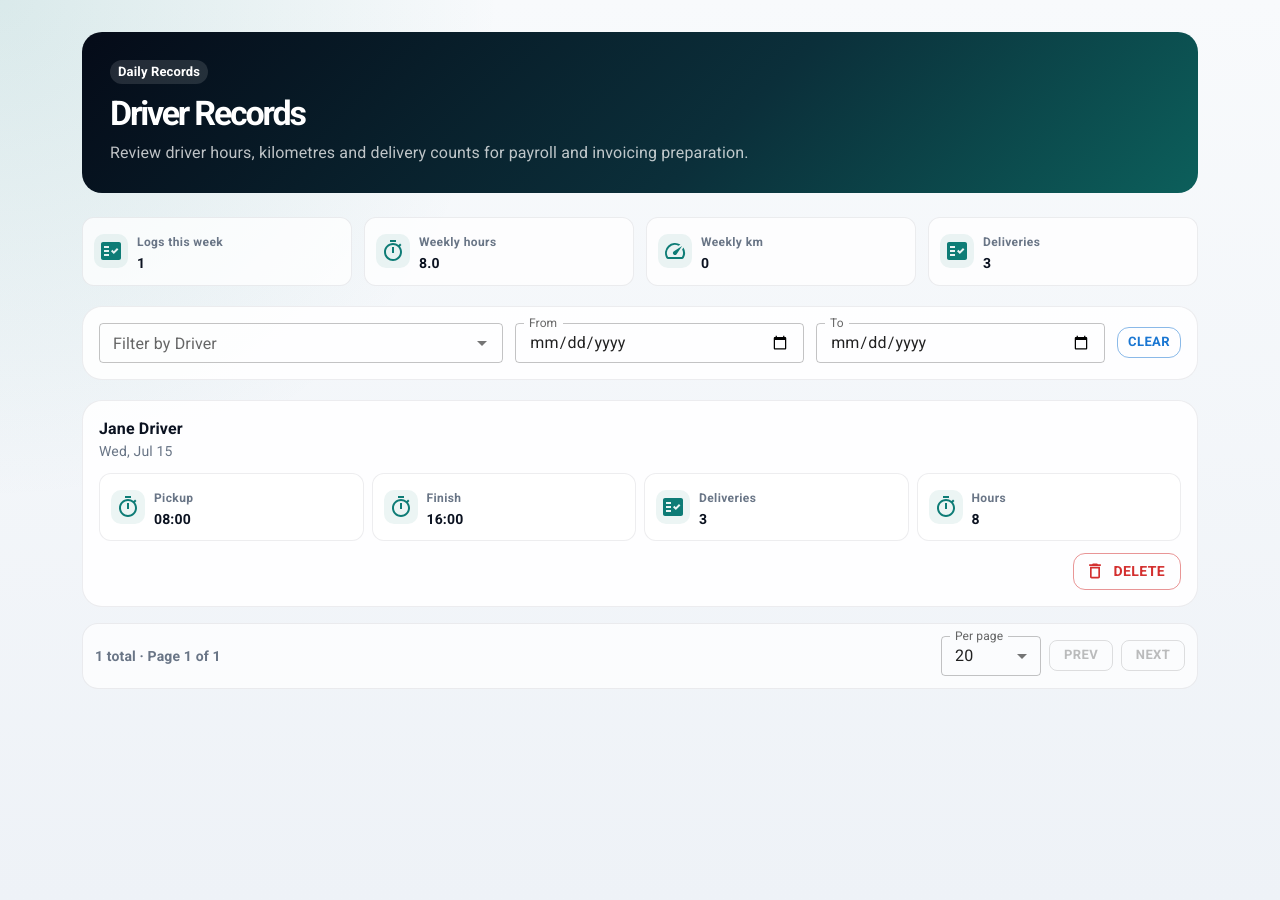
Test: WorkLogs (admin) — consolidated Driver + Date filter › PASS: Clear resets the driver and date filters back to the unfiltered list
Expected: the text "Jane Driver" is shown, [99,419,183,438]
Type "Jane" into the dropdown labelled "Filter by Driver".
click(285, 343); type("Jane")  # box [105,329,464,357]
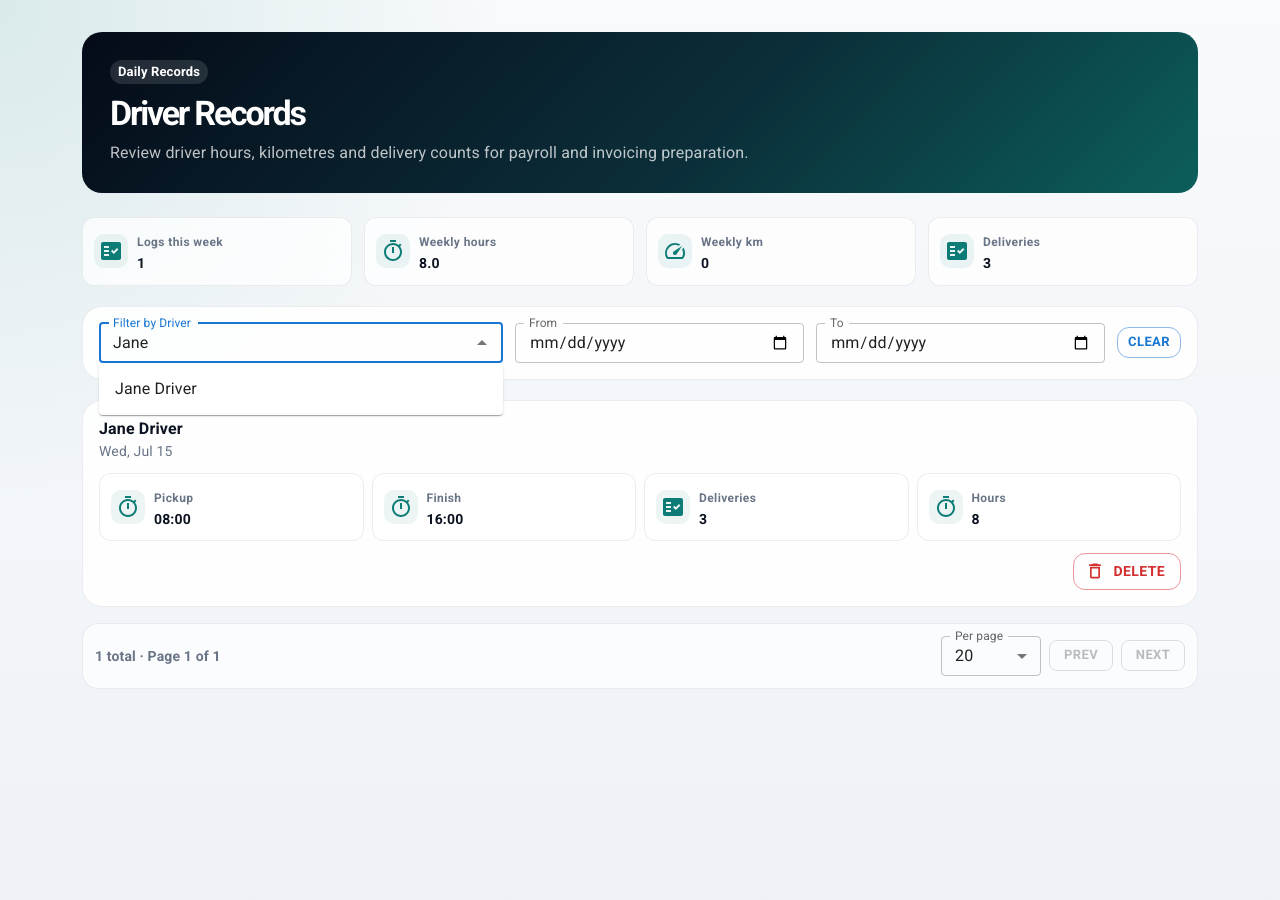
Click the option "Jane Driver".
click(156, 388)  # box [115,379,197,398]
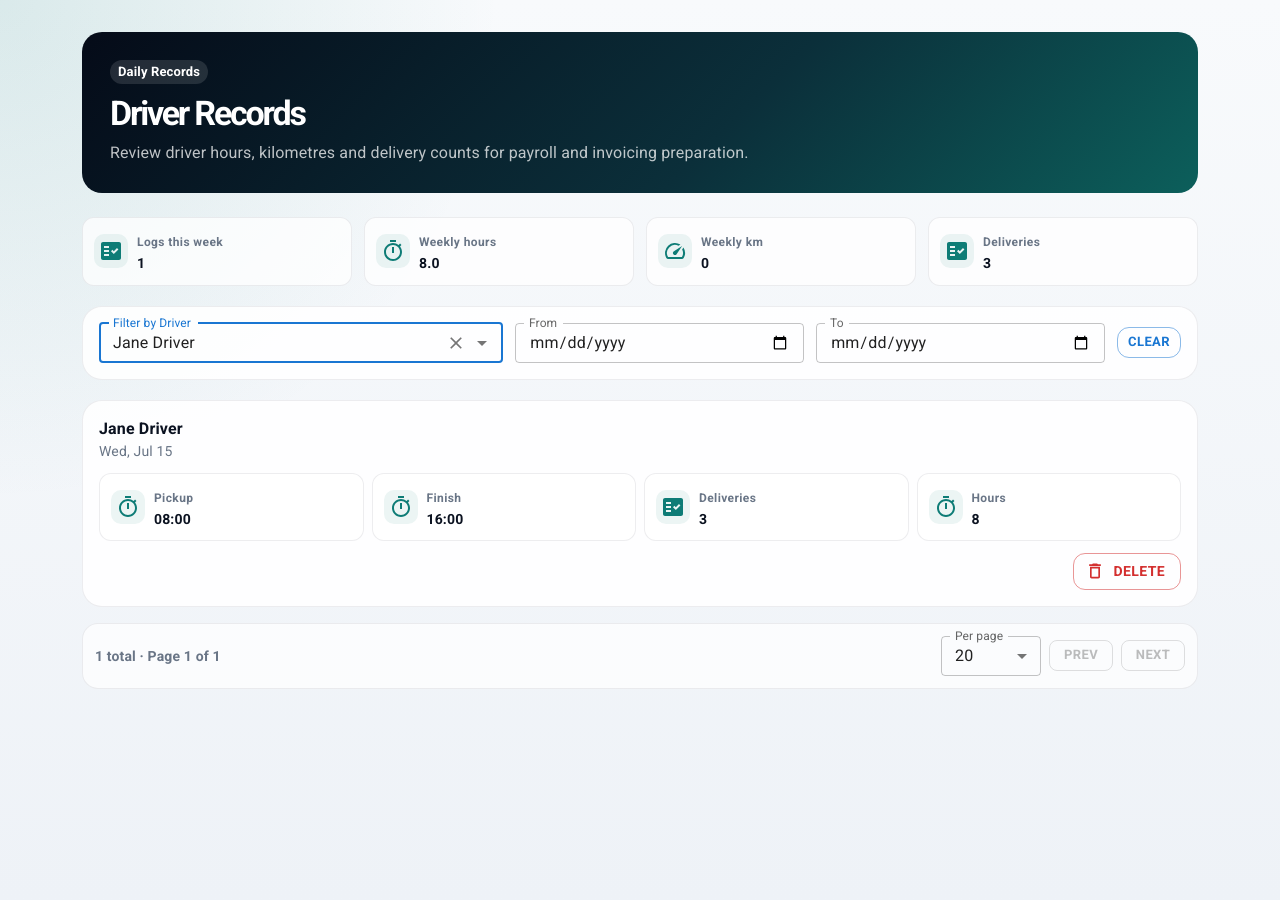
Click the button "Clear".
click(1149, 343)  # box [1117,327,1181,358]
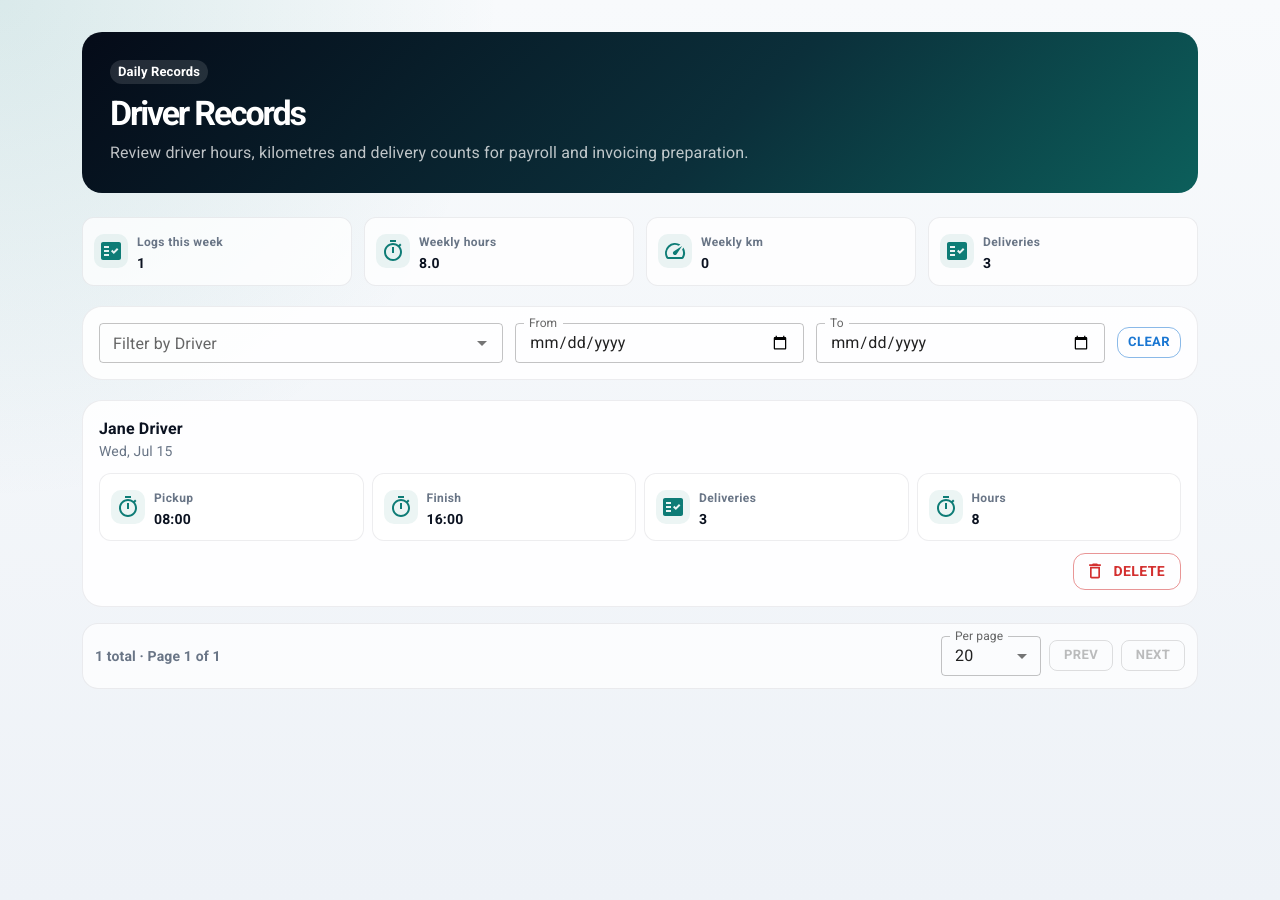
Expected: the dropdown labelled "Filter by Driver" is empty, [105,329,464,357]
